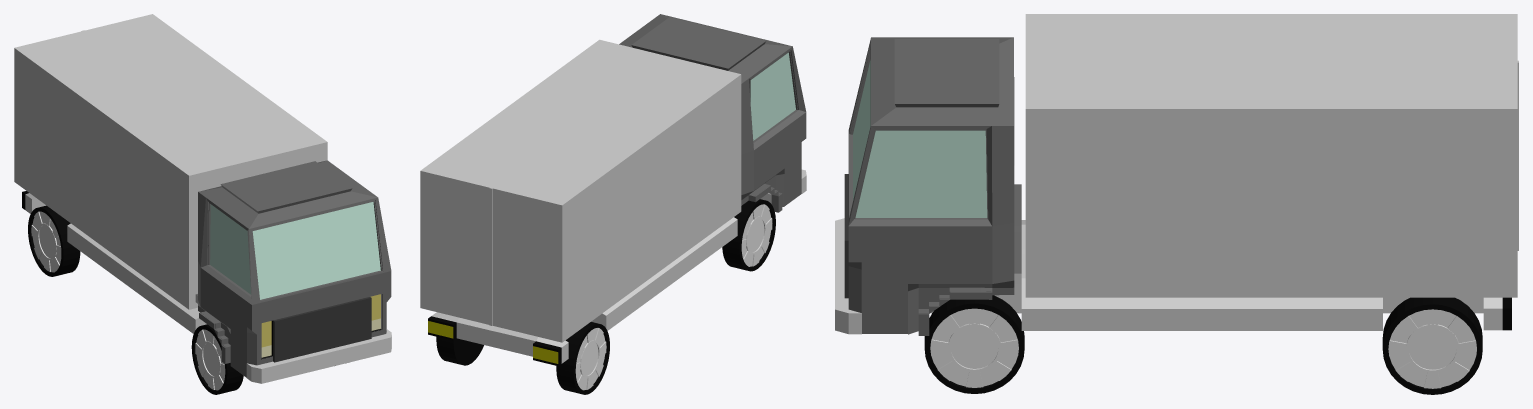
File: Truck.fbx
3 renders of one model, left to right at view 1: azimuth 30°, elevation 25°; view 2: azimuth 150°, elevation 25°; view 3: azimuth 270°, elevation 25°, orthographic. The views are drawn at different scales.
Visible parts, largest first — view 1: Truck, WheelF, WheelR; view 2: Truck, WheelF, WheelR; view 3: Truck, WheelF, WheelR.
Boxes of the visible parts, box(x1,y1,x2,y2) form: Truck: box(14, 14, 391, 383); WheelF: box(28, 205, 80, 276); WheelR: box(191, 324, 243, 394); Truck: box(420, 14, 806, 366); WheelF: box(436, 322, 609, 394); WheelR: box(722, 199, 775, 271); Truck: box(835, 14, 1518, 335); WheelF: box(1382, 297, 1482, 394); WheelR: box(924, 295, 1024, 393).
Bounding box in the file's own units: 5.88 × 8.06 × 17.32.
